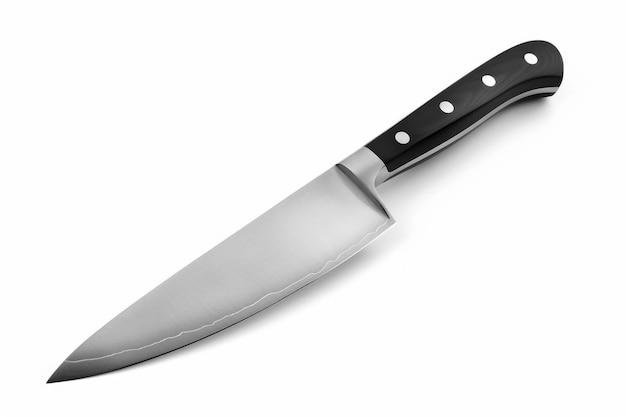Knife: (46, 38, 563, 383)
